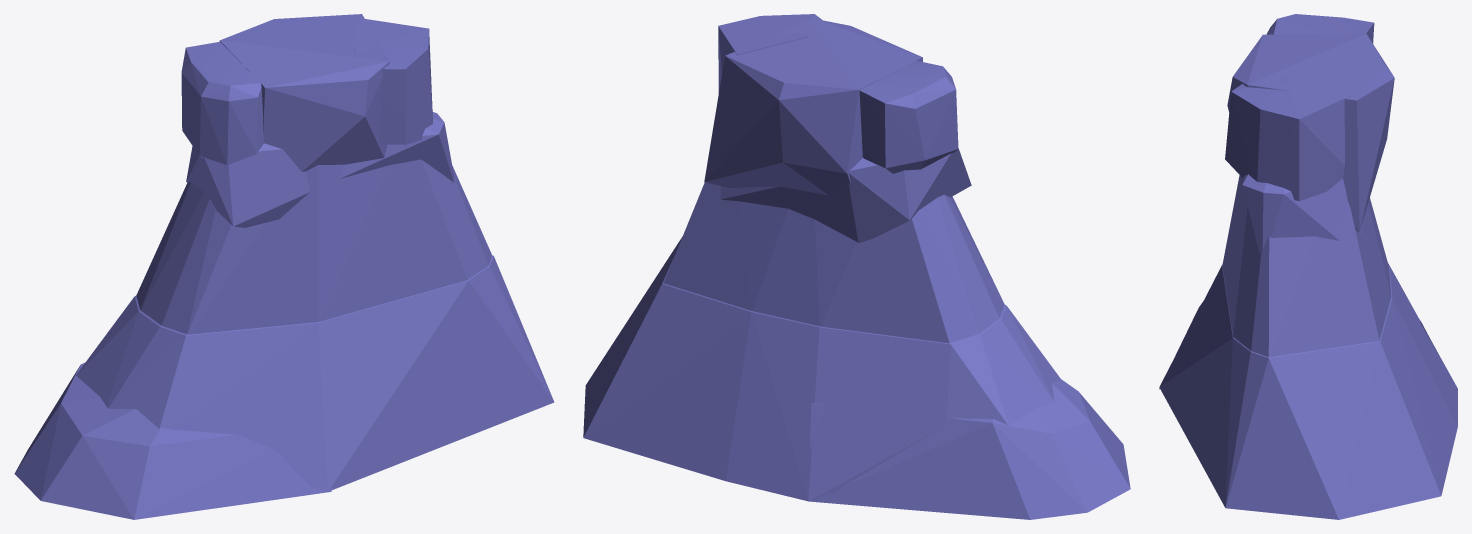
File: Cliff_Sediment_04_Taper_Collider_01.FBX
3 renders of one model, left to right at view 1: azimuth 30°, elevation 25°; view 2: azimuth 150°, elevation 25°; view 3: azimuth 270°, elevation 25°, orthographic. The views are drawn at different scales.
Parts seen in each view (by area): view 1: COLLIDER4, COLLIDER6, COLLIDER5, COLLIDER1, COLLIDER7, COLLIDER3, COLLIDER2; view 2: COLLIDER4, COLLIDER6, COLLIDER5, COLLIDER1, COLLIDER7, COLLIDER3, COLLIDER2; view 3: COLLIDER4, COLLIDER6, COLLIDER1, COLLIDER2, COLLIDER7, COLLIDER3.
Part boxes in pixels (x1=…): COLLIDER4: x1=76, y1=255, x2=554, y2=491; COLLIDER6: x1=136, y1=159, x2=492, y2=334; COLLIDER5: x1=14, y1=363, x2=331, y2=519; COLLIDER1: x1=219, y1=14, x2=389, y2=171; COLLIDER7: x1=186, y1=112, x2=454, y2=227; COLLIDER3: x1=181, y1=41, x2=263, y2=165; COLLIDER2: x1=354, y1=17, x2=432, y2=144; COLLIDER4: x1=583, y1=236, x2=1060, y2=501; COLLIDER6: x1=664, y1=182, x2=1004, y2=343; COLLIDER5: x1=808, y1=379, x2=1130, y2=519; COLLIDER1: x1=704, y1=18, x2=922, y2=195; COLLIDER7: x1=720, y1=148, x2=971, y2=242; COLLIDER3: x1=859, y1=60, x2=958, y2=173; COLLIDER2: x1=718, y1=14, x2=822, y2=93; COLLIDER4: x1=1159, y1=263, x2=1457, y2=519; COLLIDER6: x1=1222, y1=175, x2=1391, y2=356; COLLIDER1: x1=1227, y1=33, x2=1394, y2=231; COLLIDER2: x1=1225, y1=77, x2=1350, y2=200; COLLIDER7: x1=1242, y1=174, x2=1364, y2=253; COLLIDER3: x1=1266, y1=14, x2=1374, y2=43.
Size of the model in its own units: 684 by 480 by 366.
